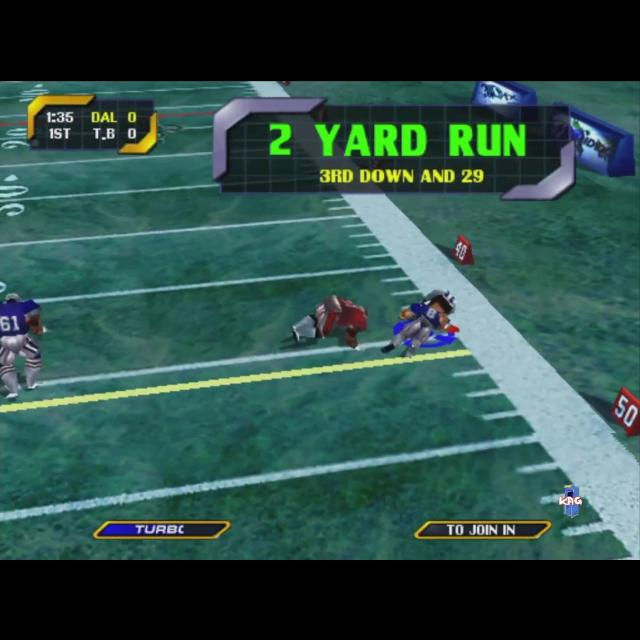player: (382, 289, 460, 356), (0, 292, 48, 398), (292, 294, 368, 348)
